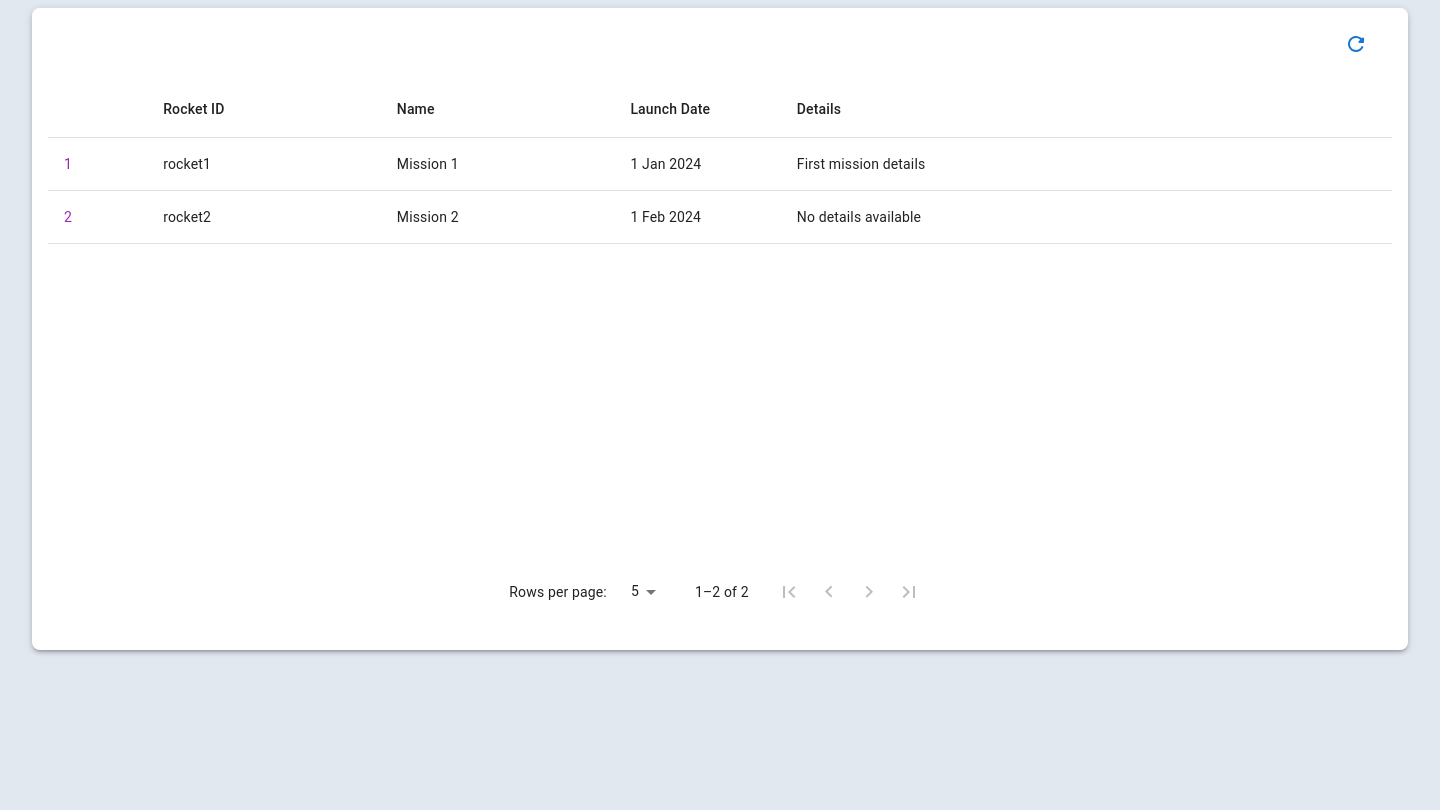
Test: LaunchDataTable › Pagination › changes rows per page
Press the mouse on the dropdown named "Rows per page:": [635, 591] box [631, 583, 639, 599]
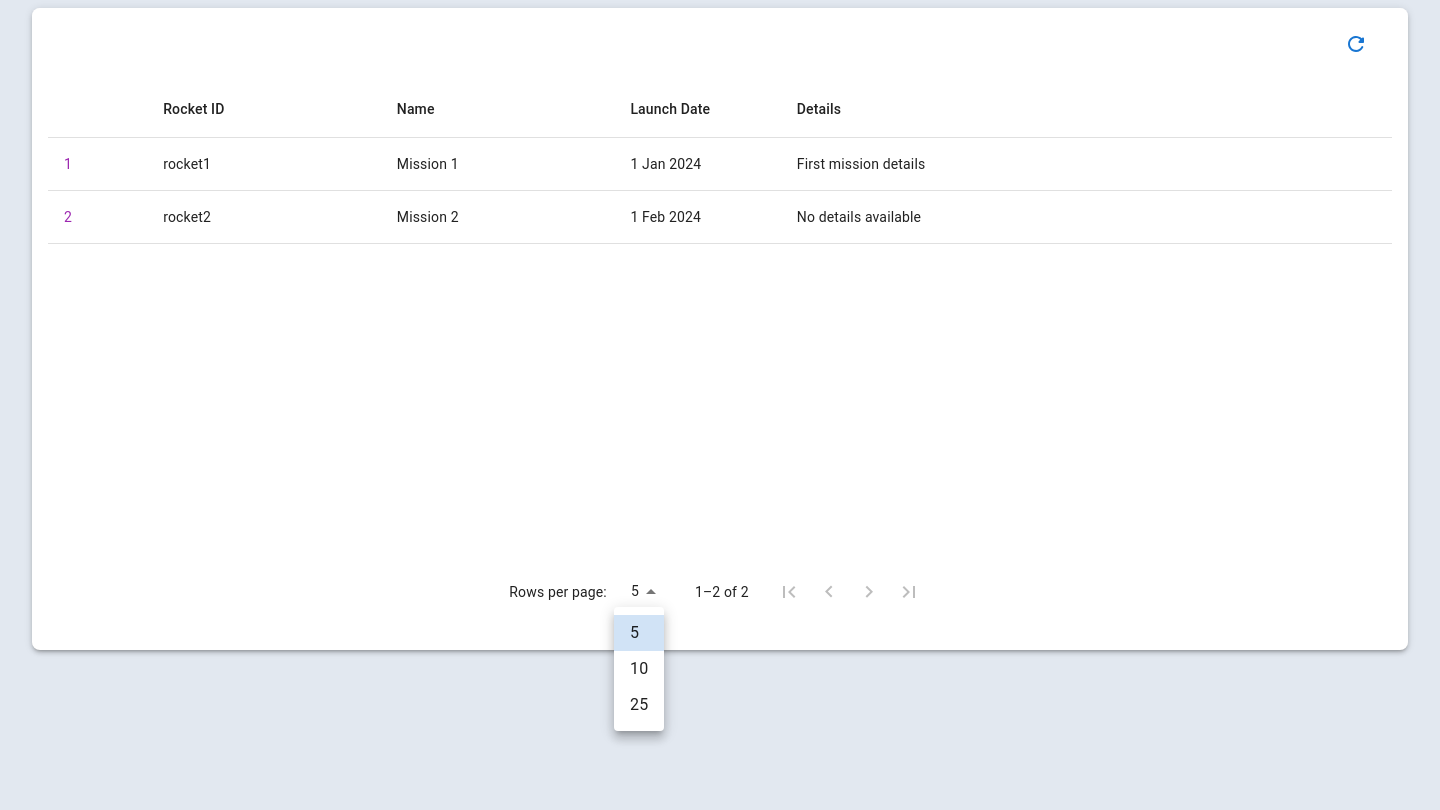
Click the option "10": [639, 668] box [630, 659, 648, 678]
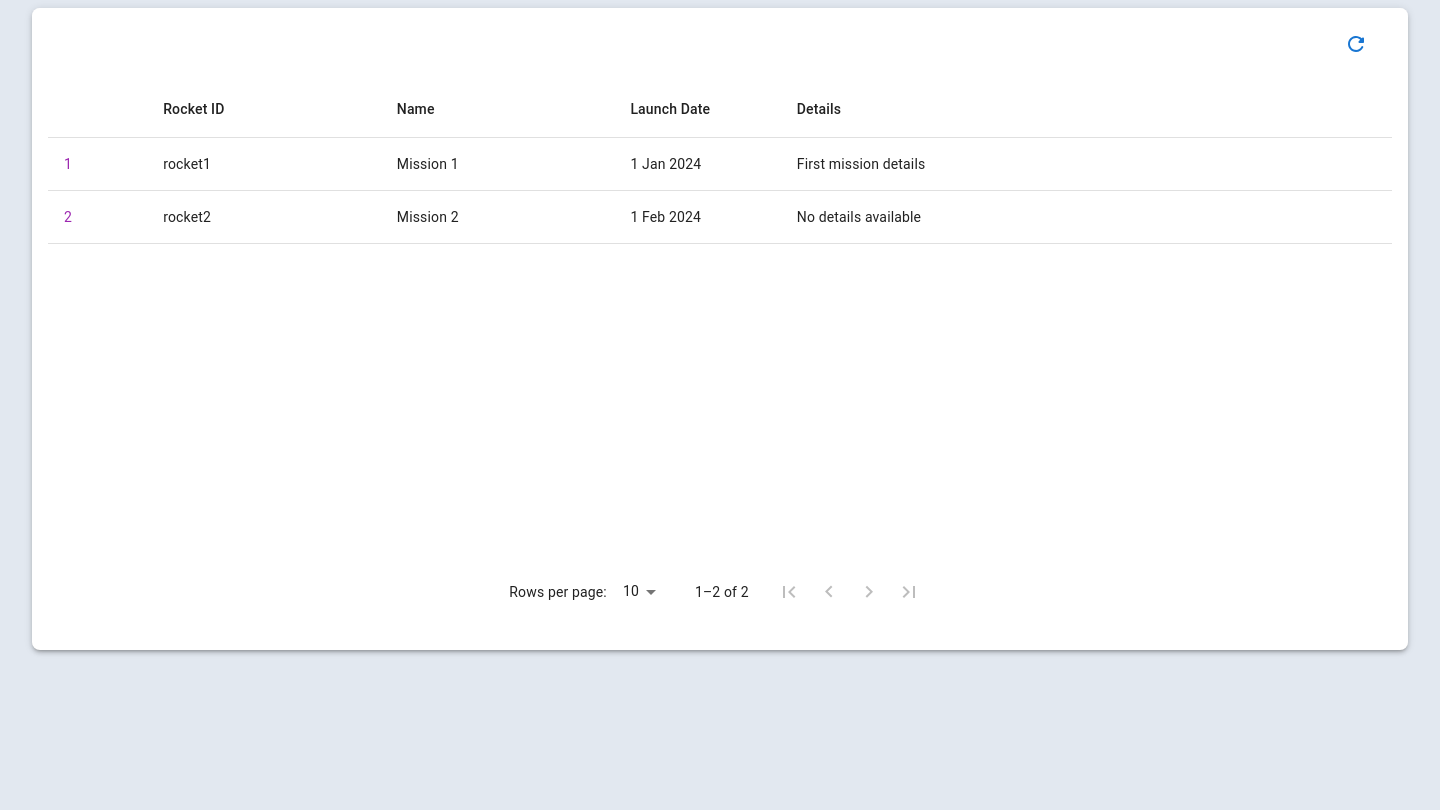
expect the dropdown named "Rows per page:" reads "10": met, box [623, 583, 639, 599]
